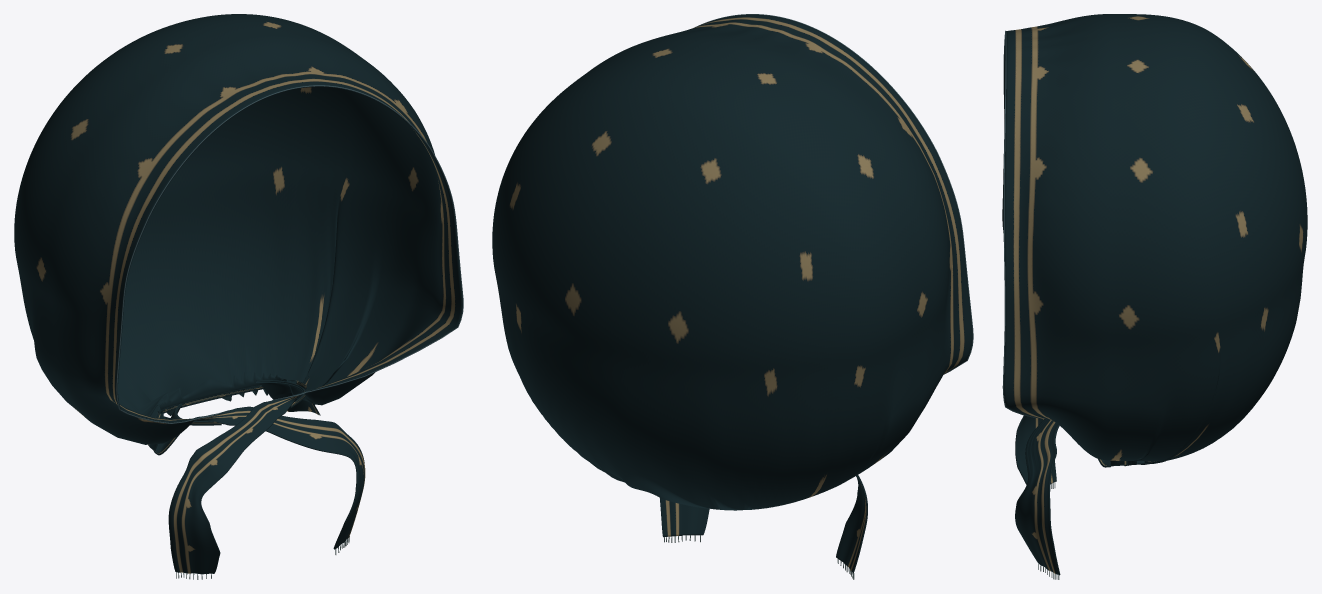
The model's file is Feminine-space-buns-sweatshirt-pashmina250-headgear.glb.
3 views of the same model, side by side, from view 1: azimuth 30°, elevation 25°; view 2: azimuth 150°, elevation 25°; view 3: azimuth 270°, elevation 25° (orthographic). The views are drawn at different scales.
Visible parts, largest first — view 1: 226 headgear / Headwear / continuous woven pashmina239, 226 headgear / Headwear / face edge239; view 2: 226 headgear / Headwear / continuous woven pashmina239, 226 headgear / Headwear / face edge239; view 3: 226 headgear / Headwear / continuous woven pashmina239, 226 headgear / Headwear / face edge239.
Part boxes in pixels (<box>): 226 headgear / Headwear / continuous woven pashmina239: <box>14,14,462,574</box>; 226 headgear / Headwear / face edge239: <box>116,85,463,423</box>; 226 headgear / Headwear / continuous woven pashmina239: <box>492,14,972,573</box>; 226 headgear / Headwear / face edge239: <box>694,14,973,374</box>; 226 headgear / Headwear / continuous woven pashmina239: <box>1002,14,1307,575</box>; 226 headgear / Headwear / face edge239: <box>1002,30,1041,418</box>.
Size of the model in its own units: 1.07 by 1.38 by 0.7556.
3 materials, 1 textured.
